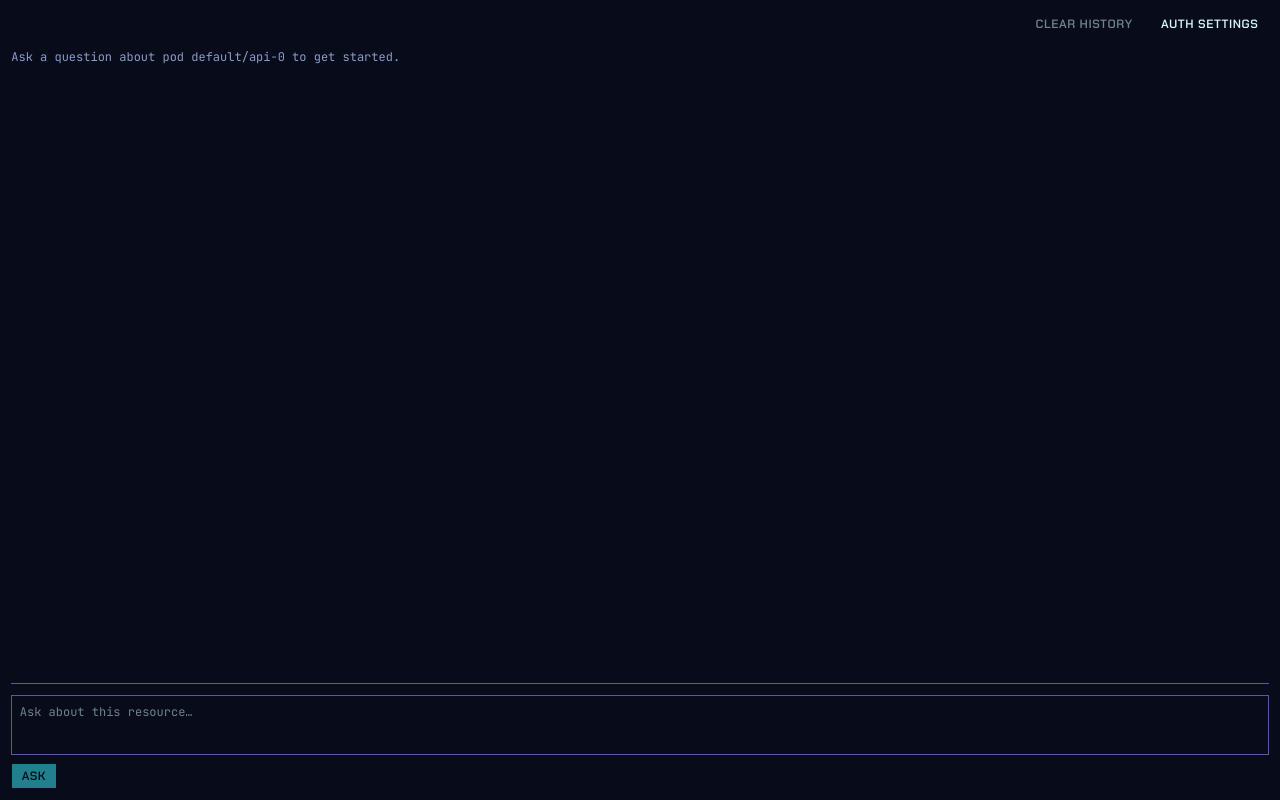
Test: AgentPanel › shows an error state when the AgentAsk command fails
Type "Why is this pod crashing?" into the text box with test id "agent-ops-question-input" at coordinates (640, 725), box [11,695,1269,755]
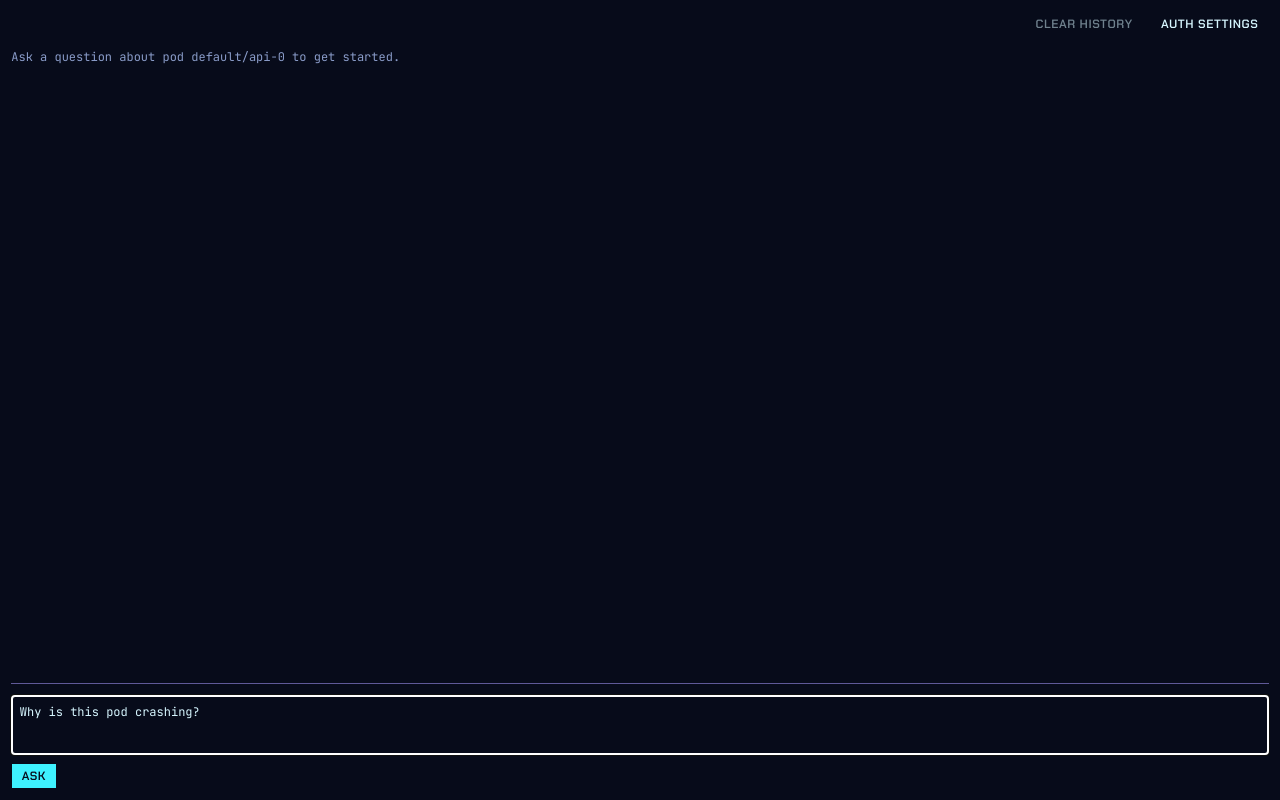
Click the button with test id "agent-ops-submit" at coordinates (34, 776), box [11,762,57,789]
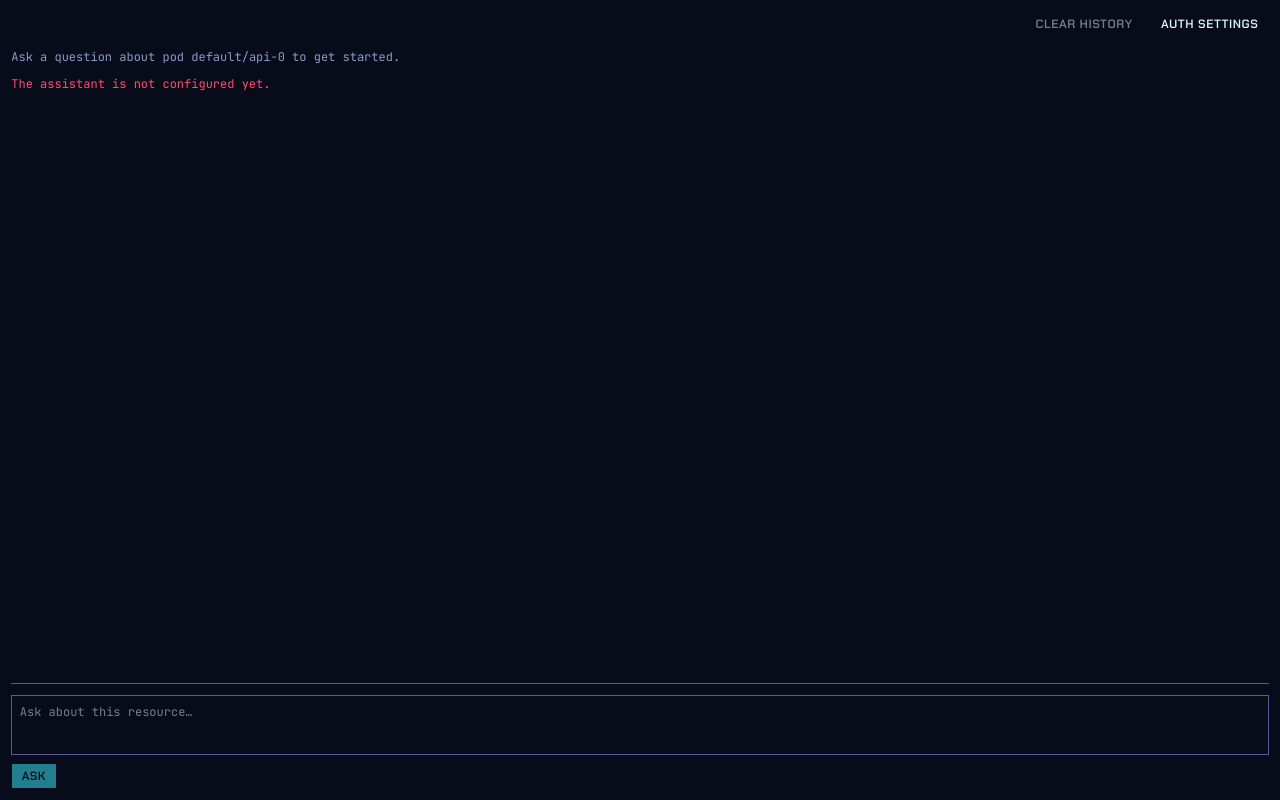
Expected: the text with test id "agent-ops-error" reads "The assistant is not configured yet.", [11,76,270,92]
